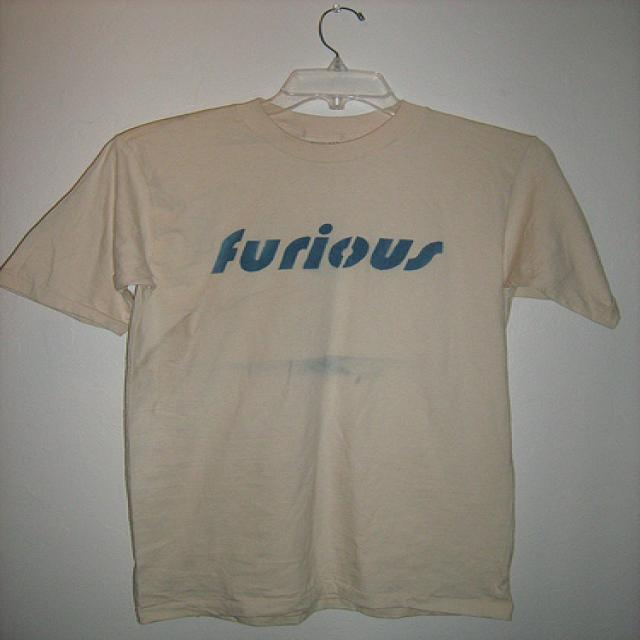shirt: (11, 100, 626, 632)
